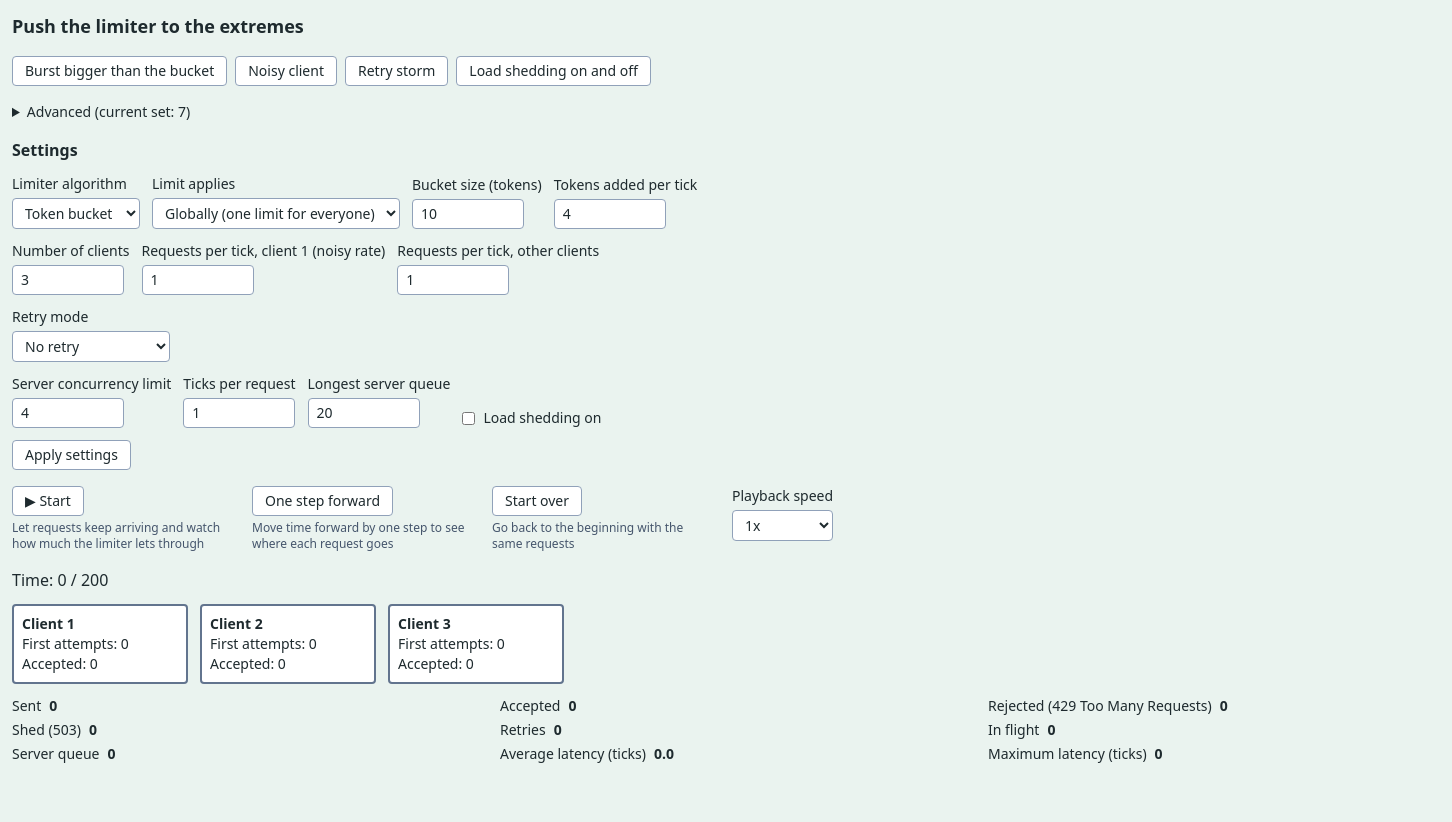
Scenario: RateLimitExtremePanel › T5: 0 clients shows a message and leaves the run unchanged
The width and height of the screenshot is (1452, 822).
Step 1. Click the button "One step forward" → point(323, 501), box [252,486,393,516]
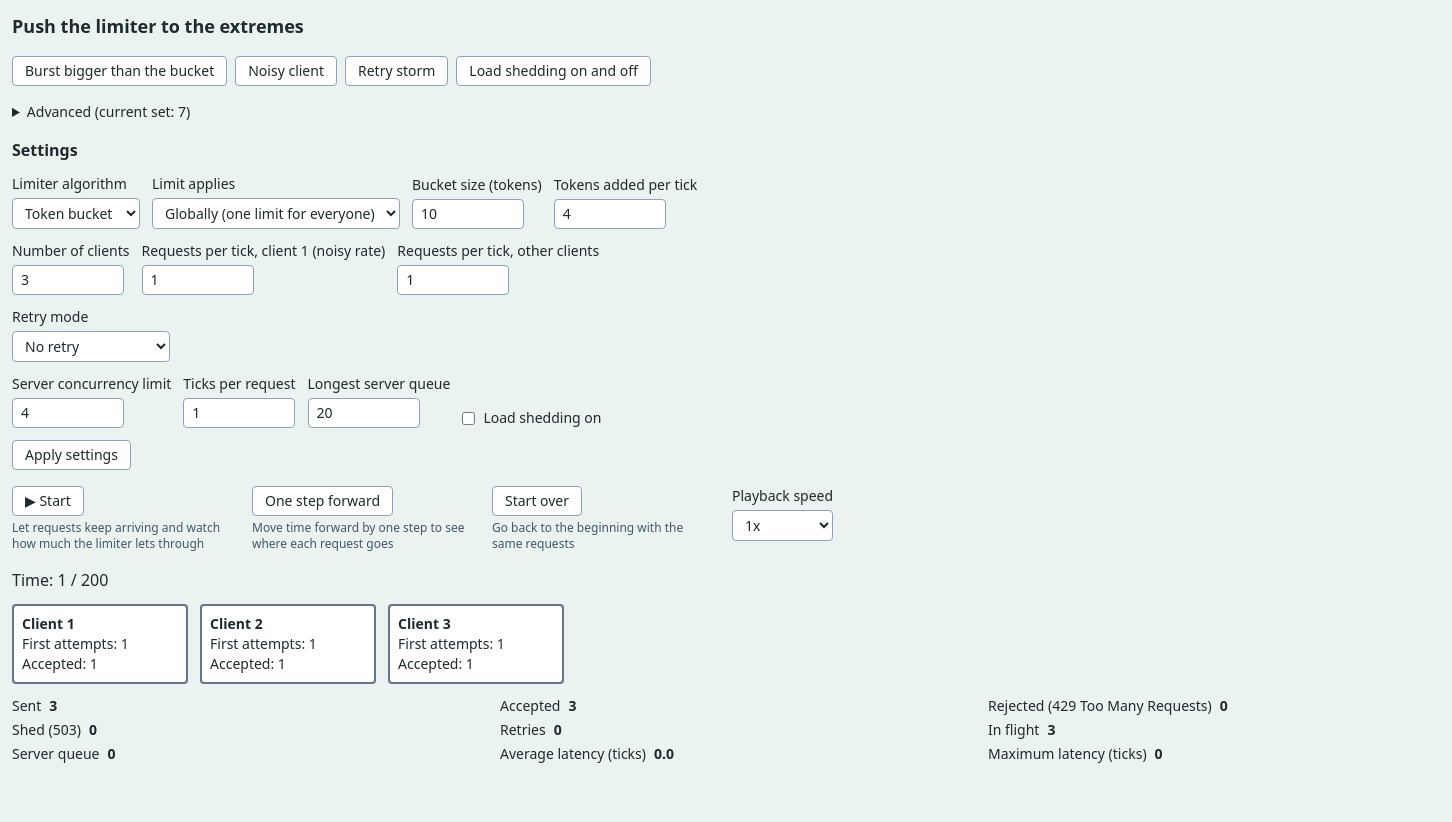
Step 2. Click the button "One step forward" → point(323, 501), box [252,486,393,516]
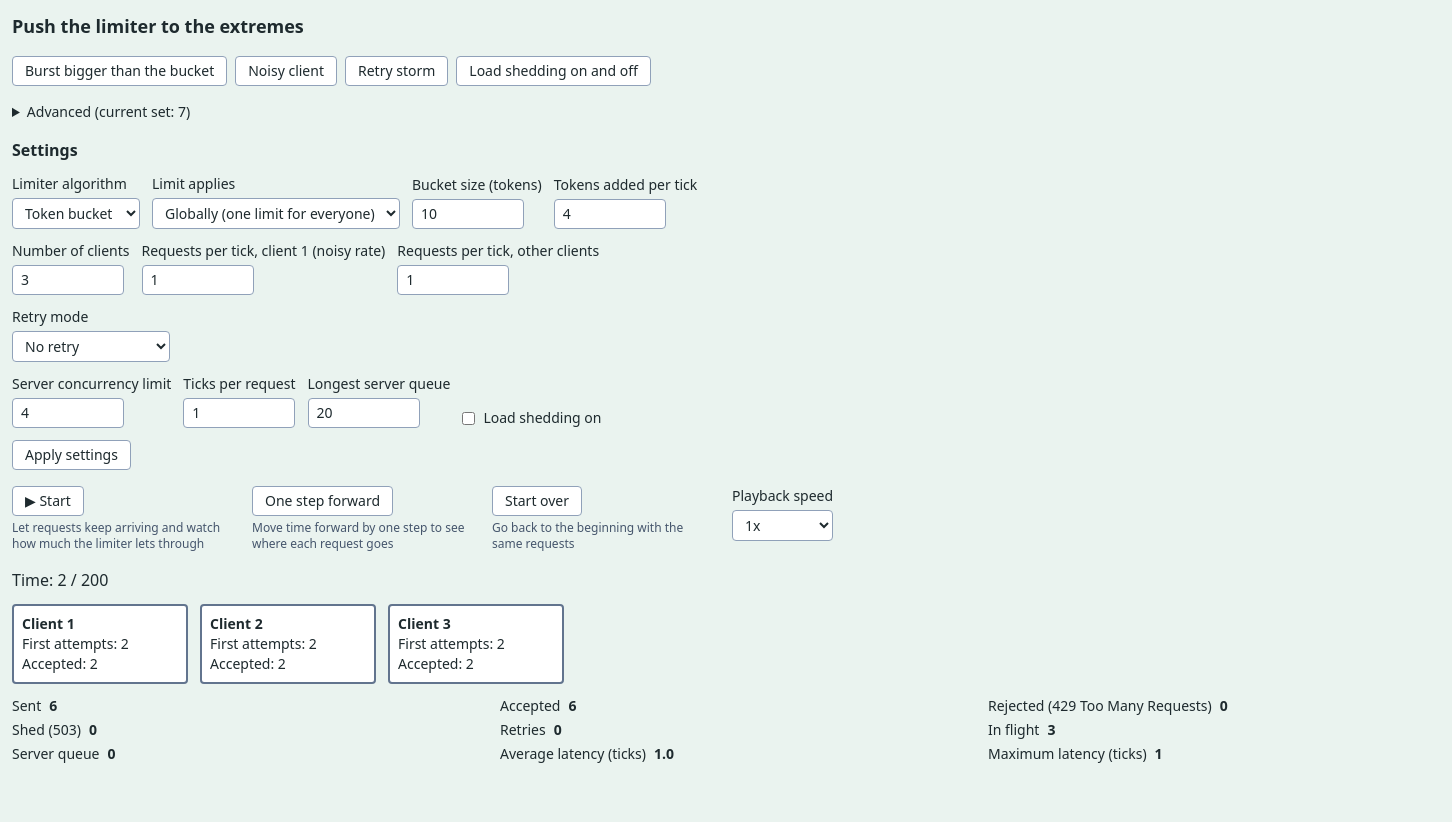
Step 3. Click the button "One step forward" → point(323, 501), box [252,486,393,516]
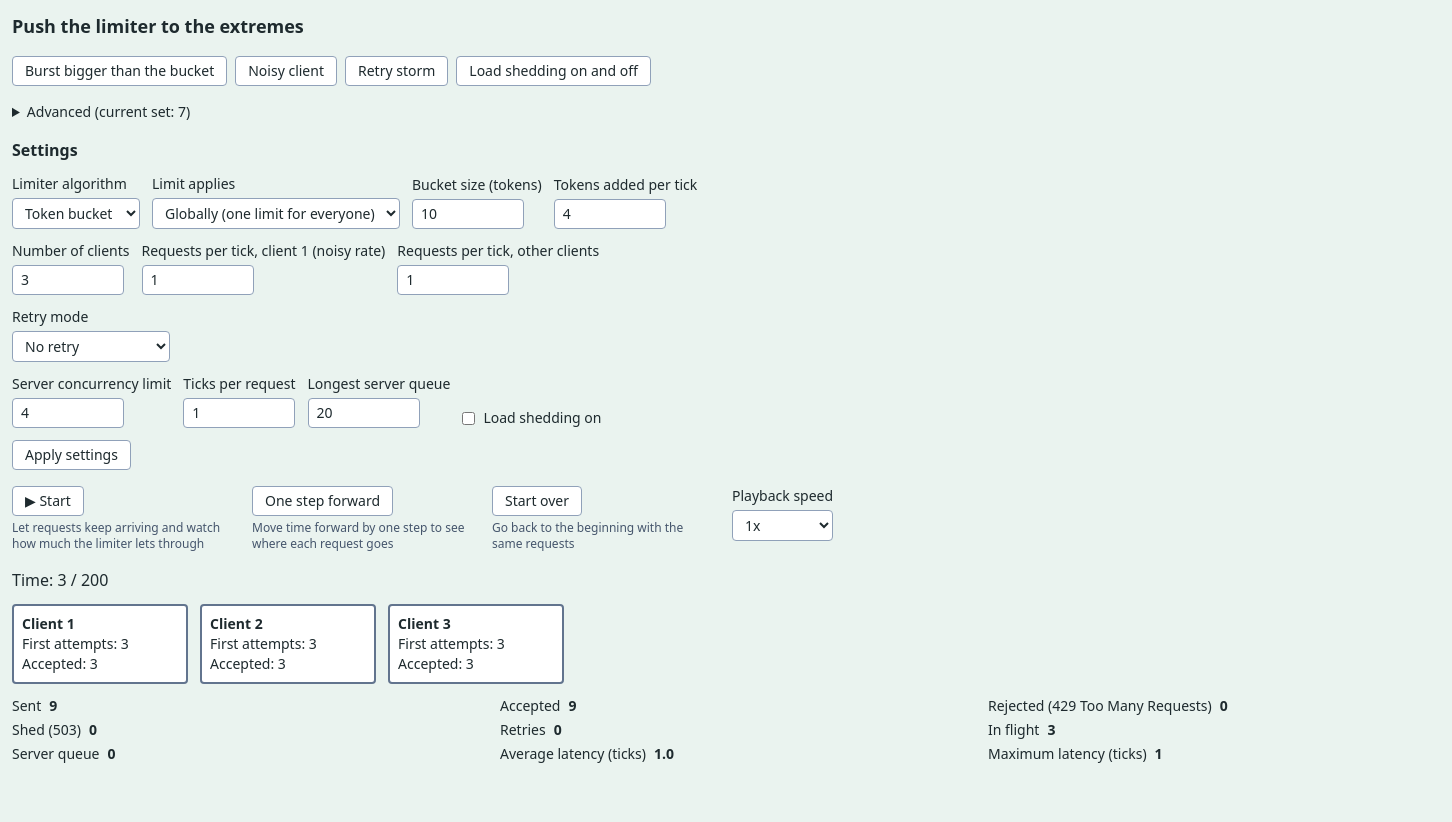
Step 4. Replace the text in the number field labelled "Number of clients" with "0" → point(68, 280), box [12,265,124,295]
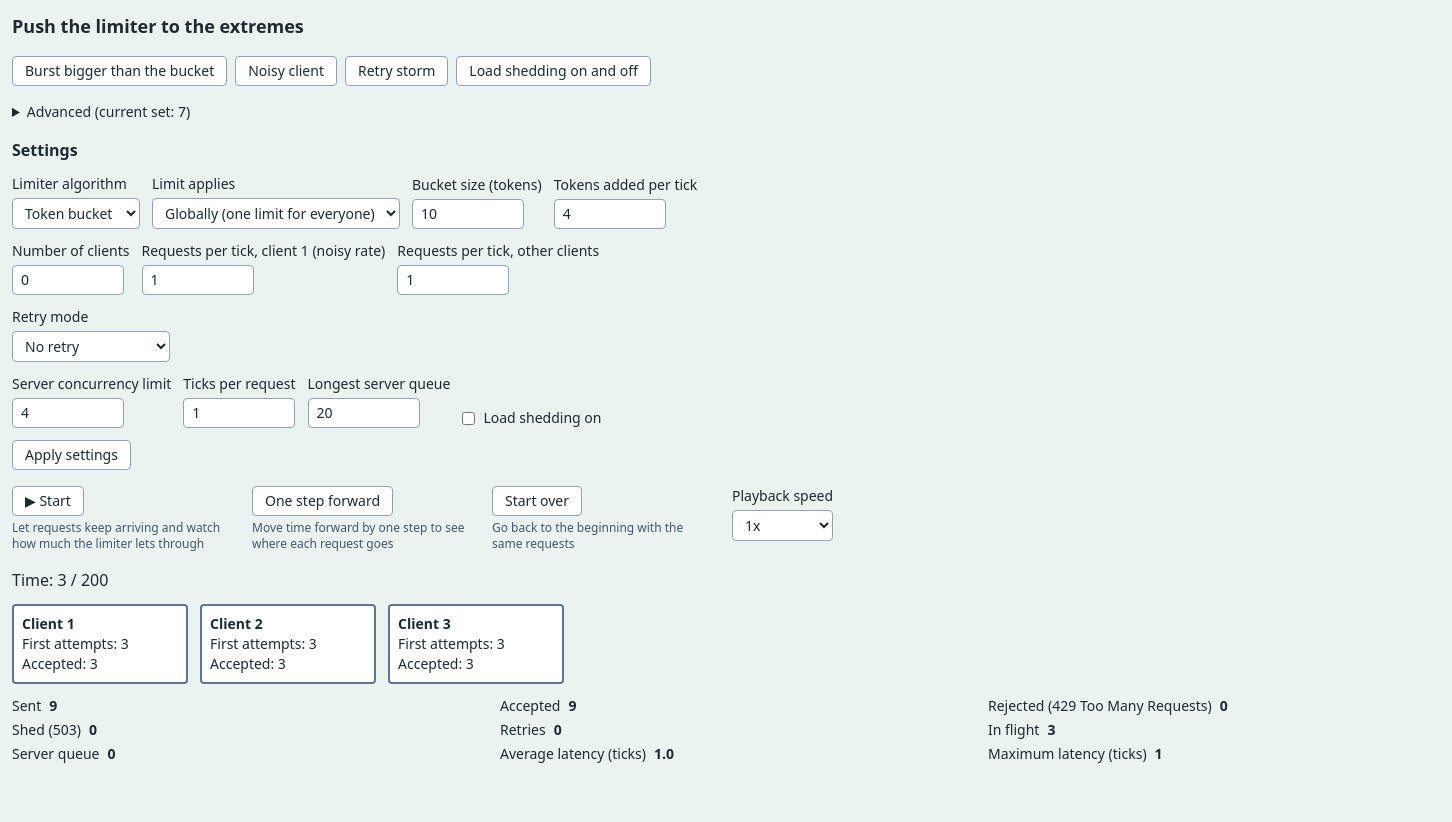
Step 5. Click the button "Apply settings" → point(71, 455), box [12,440,131,470]
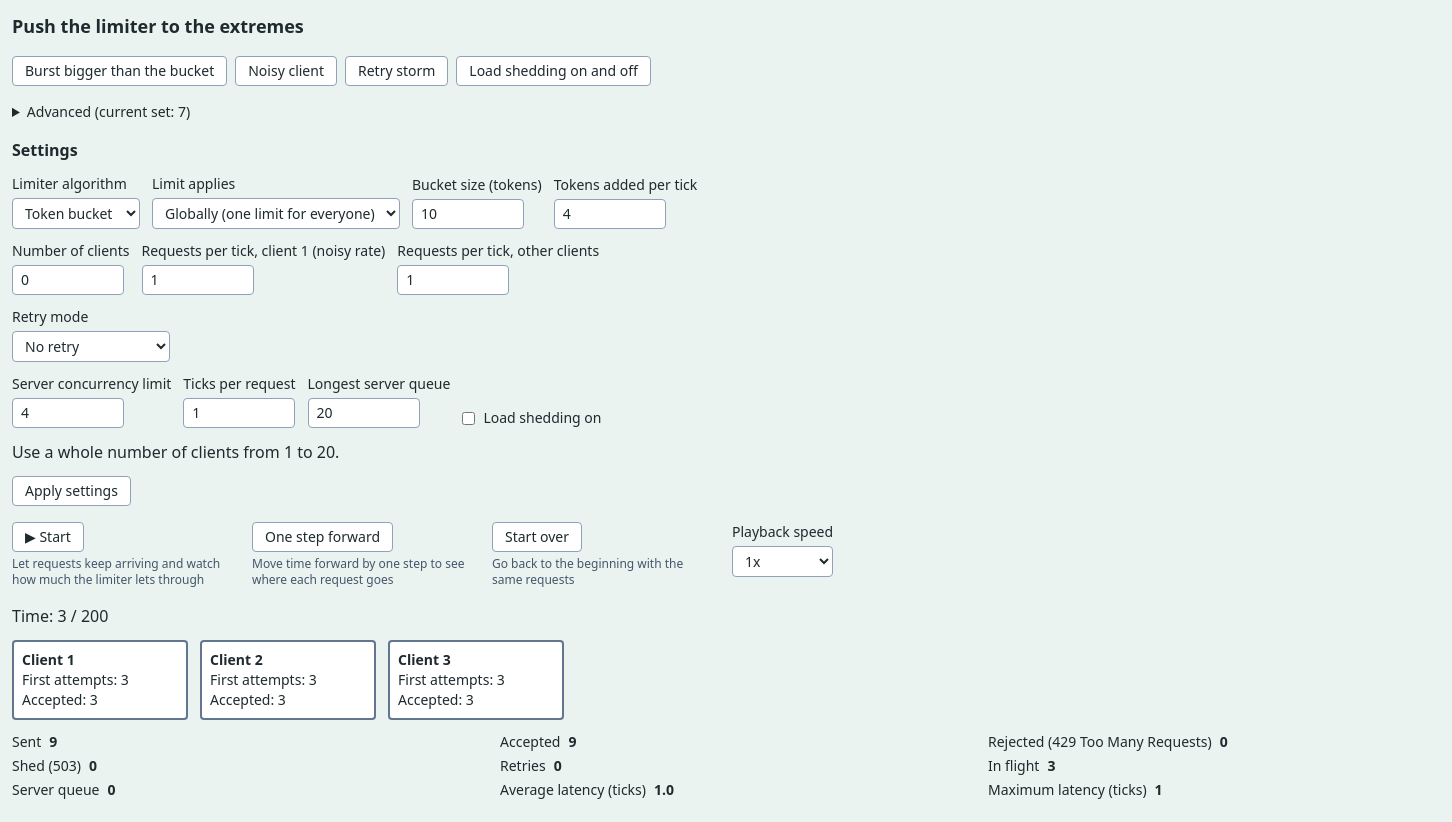
Expected: the text "Time: 3 / 200" is shown, [12,605,108,627]
Expected: the message reads "Use a whole number of clients from 1 to 20.", [12,441,339,463]
